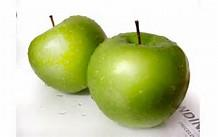apple: (91, 29, 189, 128), (28, 15, 108, 97)
